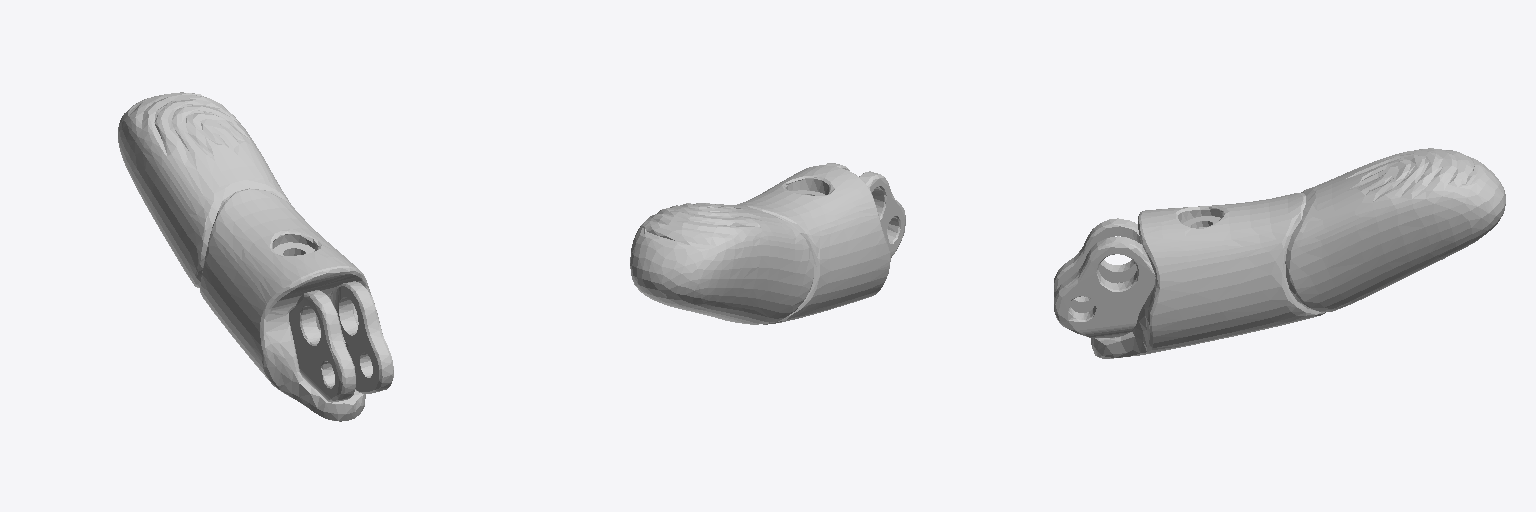
The model's file is R_middle_distal.obj.
The picture shows the model from 3 angles: view 1: azimuth 30°, elevation 25°; view 2: azimuth 150°, elevation 25°; view 3: azimuth 270°, elevation 25°; orthographic projection.
Parts seen in each view (by area): view 1: R_middle_distal; view 2: R_middle_distal; view 3: R_middle_distal.
Part boxes in pixels (x1,y1,x2,y2): R_middle_distal: (118,92,393,421); R_middle_distal: (630,163,905,324); R_middle_distal: (1054,148,1505,358).
Bounding box in the file's own units: 0.0152 × 0.0242 × 0.0511.